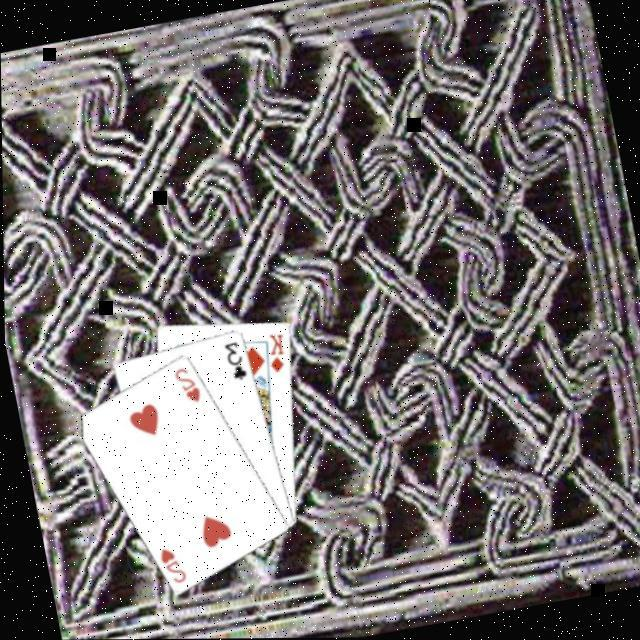2H: (168, 360, 204, 406), (154, 539, 189, 585)
3C: (220, 335, 250, 382)
KD: (260, 327, 292, 375)
